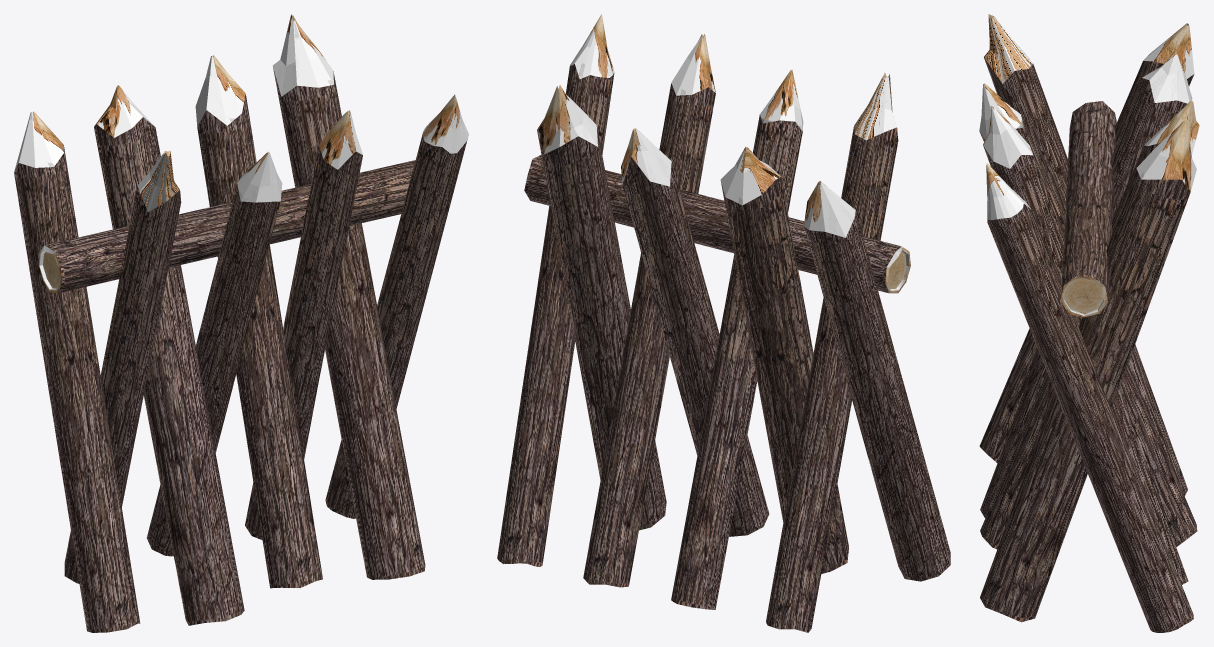
The model's file is woodWall3.FBX.
3 views of the same model, side by side, from view 1: azimuth 30°, elevation 25°; view 2: azimuth 150°, elevation 25°; view 3: azimuth 270°, elevation 25° (orthographic). The views are drawn at different scales.
Parts seen in each view (by area): view 1: Cylinder001, Cylinder019, Cylinder023, Cylinder008, Cylinder024, Cylinder010, Cylinder004, Cylinder025, Cylinder014; view 2: Cylinder019, Cylinder001, Cylinder024, Cylinder010, Cylinder023, Cylinder025, Cylinder004, Cylinder008, Cylinder014; view 3: Cylinder001, Cylinder004, Cylinder014, Cylinder024, Cylinder010, Cylinder023, Cylinder025, Cylinder008, Cylinder019.
Part boxes in pixels (left/top/right/bottom): Cylinder001: left=272, top=14, right=425, bottom=579; Cylinder019: left=14, top=111, right=140, bottom=632; Cylinder023: left=94, top=85, right=244, bottom=625; Cylinder008: left=195, top=55, right=322, bottom=588; Cylinder024: left=64, top=150, right=181, bottom=583; Cylinder010: left=245, top=110, right=362, bottom=540; Cylinder004: left=325, top=94, right=468, bottom=518; Cylinder025: left=147, top=151, right=282, bottom=556; Cylinder014: left=38, top=160, right=415, bottom=292; Cylinder019: left=804, top=181, right=950, bottom=581; Cylinder001: left=537, top=85, right=666, bottom=530; Cylinder024: left=766, top=72, right=898, bottom=632; Cylinder010: left=583, top=34, right=715, bottom=587; Cylinder023: left=720, top=146, right=848, bottom=573; Cylinder025: left=671, top=70, right=803, bottom=609; Cylinder004: left=497, top=14, right=614, bottom=566; Cylinder008: left=621, top=128, right=769, bottom=536; Cylinder014: left=524, top=154, right=910, bottom=293; Cylinder001: left=980, top=114, right=1196, bottom=622; Cylinder004: left=986, top=163, right=1193, bottom=632; Cylinder014: left=1060, top=101, right=1116, bottom=317; Cylinder024: left=984, top=14, right=1187, bottom=495; Cylinder010: left=983, top=106, right=1188, bottom=584; Cylinder023: left=980, top=50, right=1192, bottom=517; Cylinder025: left=979, top=83, right=1197, bottom=546; Cylinder008: left=980, top=101, right=1199, bottom=549; Cylinder019: left=979, top=23, right=1194, bottom=462.
Bounding box in the file's own units: 8.31 × 10.69 × 4.31.
Materials: 2 (2 with a texture image).
